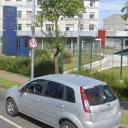speed_limit_50: (30, 38, 38, 48)
